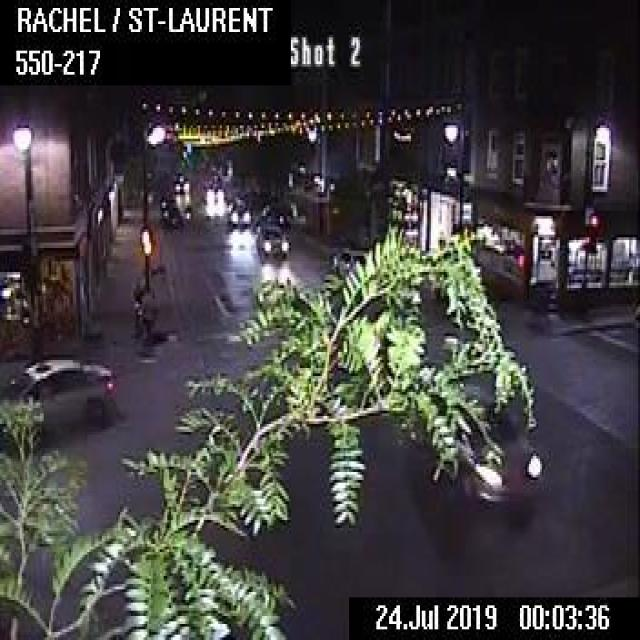vehicle: (453, 371, 551, 512), (0, 349, 116, 431), (329, 246, 376, 278), (255, 222, 289, 255), (226, 201, 251, 226), (171, 176, 191, 195)
